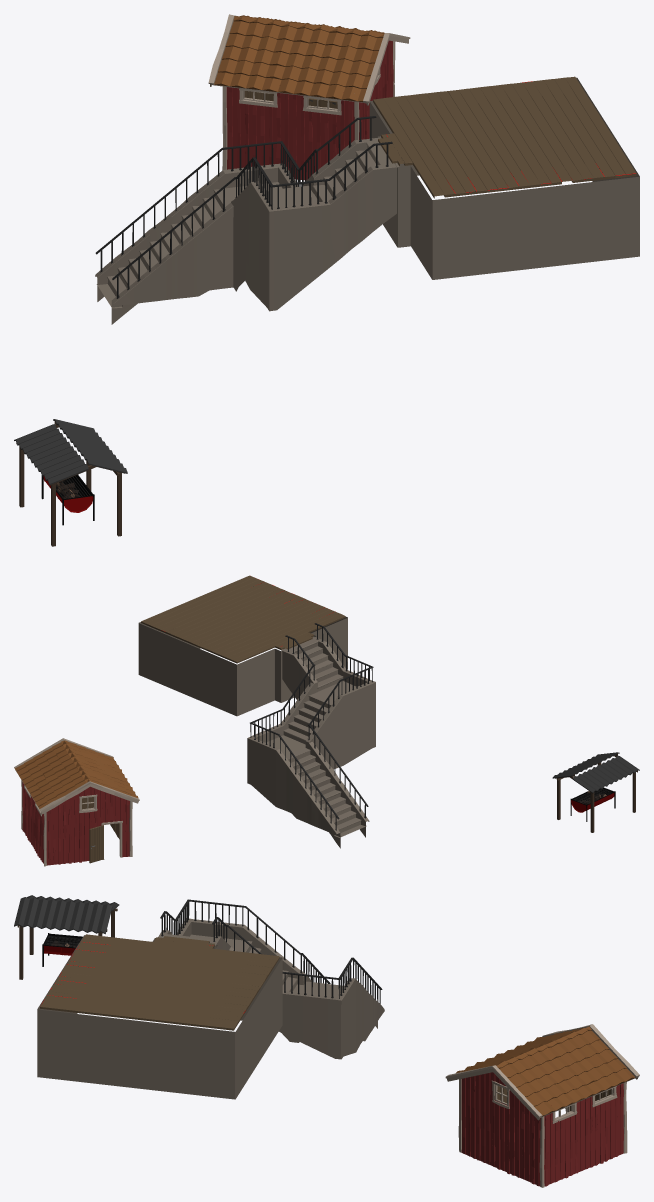
File: Combined Mesh (root_ scene) 3_0.glb
3 renders of one model, top to bottom at view 1: azimuth 30°, elevation 25°; view 2: azimuth 150°, elevation 25°; view 3: azimuth 270°, elevation 25°, orthographic. The views are drawn at different scales.
Parts seen in each view (by area): view 1: Combined Mesh (root_ scene) 3_0; view 2: Combined Mesh (root_ scene) 3_0; view 3: Combined Mesh (root_ scene) 3_0.
Part boxes in pixels (bbox=[...]): Combined Mesh (root_ scene) 3_0: bbox=[14, 14, 639, 546]; Combined Mesh (root_ scene) 3_0: bbox=[14, 575, 639, 866]; Combined Mesh (root_ scene) 3_0: bbox=[14, 895, 639, 1187].
Bounding box in the file's own units: 27.77 × 9.85 × 26.82.
Materials: 1 (1 with a texture image).
